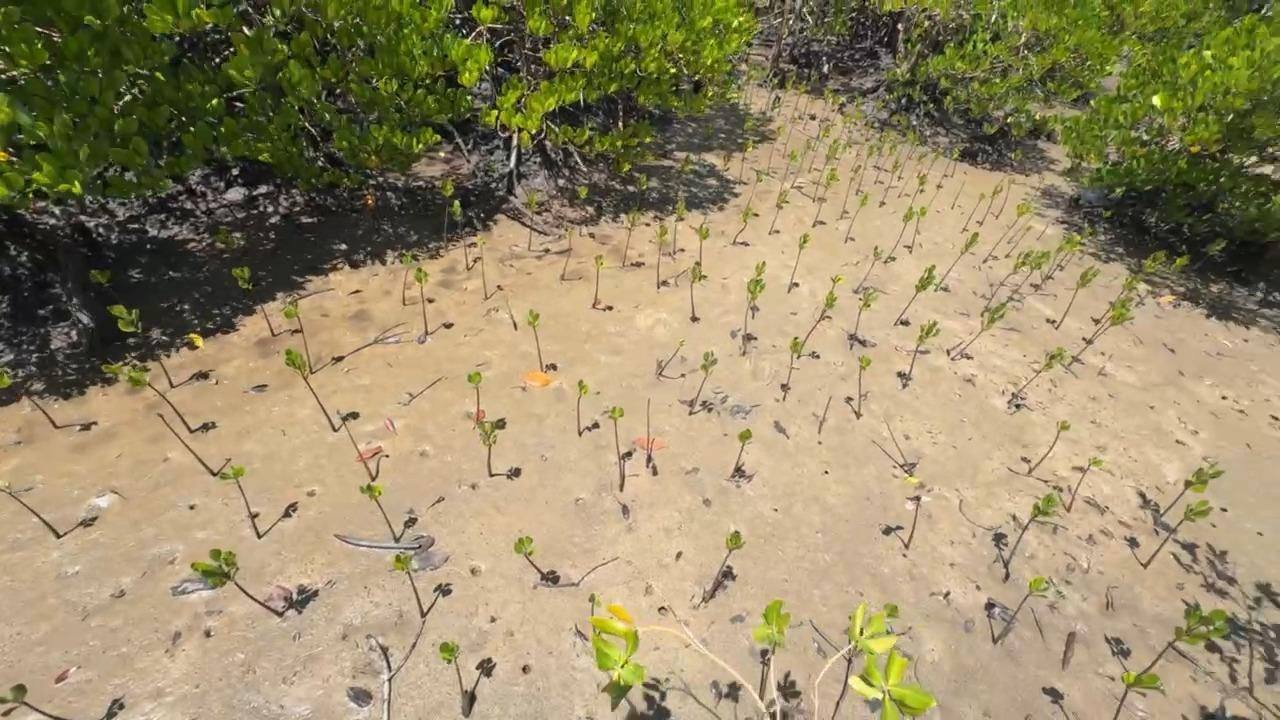Tree: (101, 358, 193, 434), (1137, 607, 1231, 676), (190, 548, 283, 617), (107, 304, 175, 389), (1143, 499, 1214, 570), (1151, 238, 1228, 299), (1003, 491, 1062, 569), (284, 348, 337, 433), (1067, 307, 1136, 367), (993, 576, 1052, 646), (752, 597, 791, 701), (156, 413, 217, 477), (1160, 461, 1226, 519), (951, 299, 1010, 361), (1007, 346, 1069, 404), (0, 369, 59, 429), (0, 482, 61, 539), (982, 202, 1036, 265), (703, 530, 747, 604), (219, 465, 262, 540), (1133, 254, 1191, 309), (1055, 264, 1101, 331), (232, 266, 276, 336), (984, 250, 1035, 309), (796, 290, 837, 360), (933, 231, 980, 292), (1094, 272, 1145, 327), (337, 409, 375, 482), (1113, 670, 1168, 720), (902, 319, 941, 389), (893, 264, 937, 326), (1033, 231, 1076, 293), (0, 683, 69, 720), (1004, 250, 1051, 304), (1085, 294, 1135, 344), (1027, 420, 1071, 474), (359, 483, 398, 543), (392, 552, 425, 618), (1067, 456, 1105, 513), (284, 296, 312, 373), (688, 349, 718, 415), (811, 93, 844, 152), (850, 287, 880, 351), (883, 205, 916, 263), (89, 269, 132, 313), (884, 418, 915, 477), (743, 278, 766, 356), (812, 167, 840, 229), (1046, 232, 1081, 280), (607, 406, 625, 492), (1059, 226, 1093, 271), (897, 150, 928, 199), (854, 245, 884, 294), (783, 336, 805, 402), (439, 641, 464, 699), (448, 199, 468, 270), (787, 233, 810, 294), (839, 164, 863, 220), (807, 124, 833, 174), (439, 177, 456, 253), (979, 177, 1004, 228), (844, 192, 868, 244), (879, 154, 902, 208), (477, 421, 499, 477), (855, 141, 877, 196), (514, 536, 545, 575), (937, 143, 965, 186), (622, 207, 642, 267), (729, 428, 752, 478), (789, 138, 811, 189), (527, 309, 544, 372), (872, 143, 898, 184), (414, 267, 429, 336), (961, 192, 985, 234), (659, 339, 686, 376), (857, 355, 872, 420), (654, 224, 669, 289), (768, 189, 789, 235), (1004, 225, 1033, 258), (559, 226, 576, 281), (909, 206, 928, 254), (751, 260, 766, 320), (766, 126, 784, 176), (1006, 213, 1035, 244), (745, 168, 766, 209), (995, 177, 1015, 220), (788, 79, 807, 124), (779, 147, 798, 191), (906, 495, 921, 550), (673, 201, 688, 255), (777, 75, 796, 117), (467, 371, 482, 424), (733, 207, 754, 244), (676, 154, 693, 198), (750, 65, 768, 106), (402, 250, 415, 306), (873, 129, 892, 167), (577, 379, 589, 437), (477, 231, 487, 300), (738, 136, 752, 185), (690, 261, 701, 323), (781, 117, 797, 159), (909, 173, 929, 206), (804, 72, 819, 116), (577, 184, 589, 238), (527, 188, 537, 251), (818, 86, 833, 128), (592, 254, 603, 310), (588, 592, 602, 634), (744, 63, 757, 106), (818, 396, 832, 435), (927, 145, 945, 175), (699, 223, 710, 267), (636, 173, 648, 212), (847, 111, 863, 140), (951, 180, 966, 210), (927, 184, 944, 210), (803, 96, 816, 130), (767, 78, 779, 111), (835, 141, 850, 167), (741, 118, 754, 143), (839, 112, 852, 137), (830, 274, 846, 293), (721, 152, 732, 179), (646, 398, 650, 468), (1037, 221, 1050, 240), (950, 159, 958, 178)
